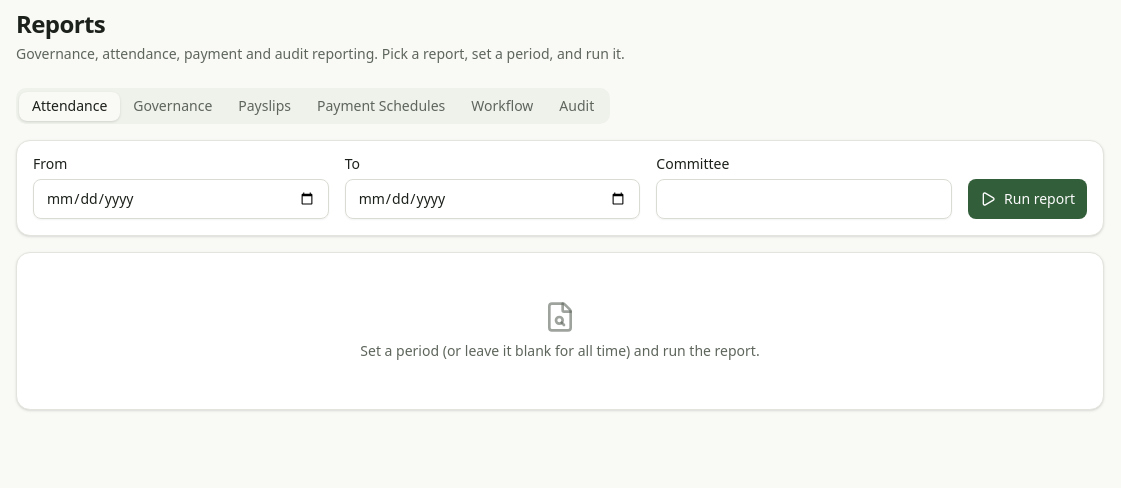
Scenario: StaffReports › runs the Attendance report and shows the byMeeting table
Click the button "Run report" at point(1028, 199), box [968,179,1087,219]
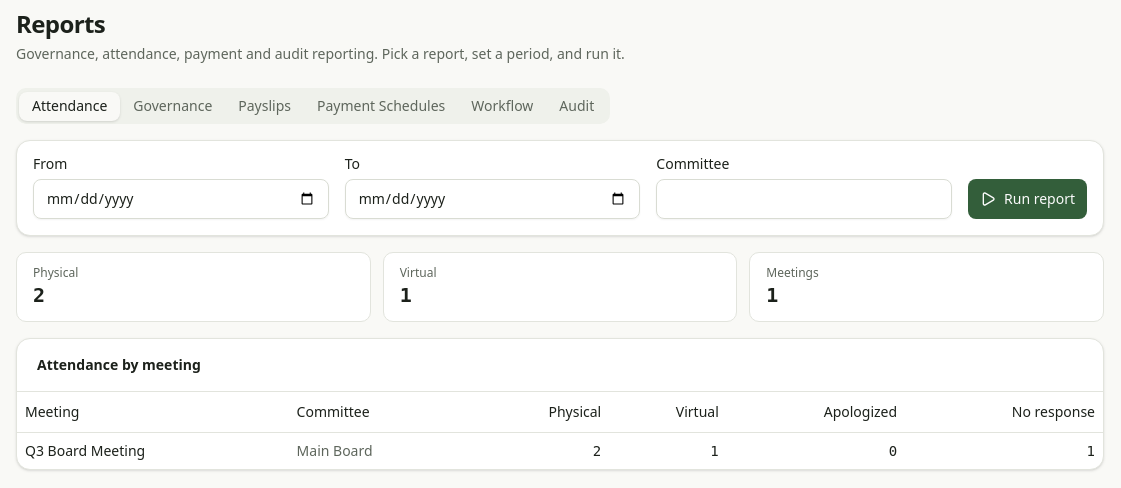
Now the text "Q3 Board Meeting" is shown, box [17,432,289,468]
Now the element named "Physical: 2" is shown, box [16,252,371,322]
